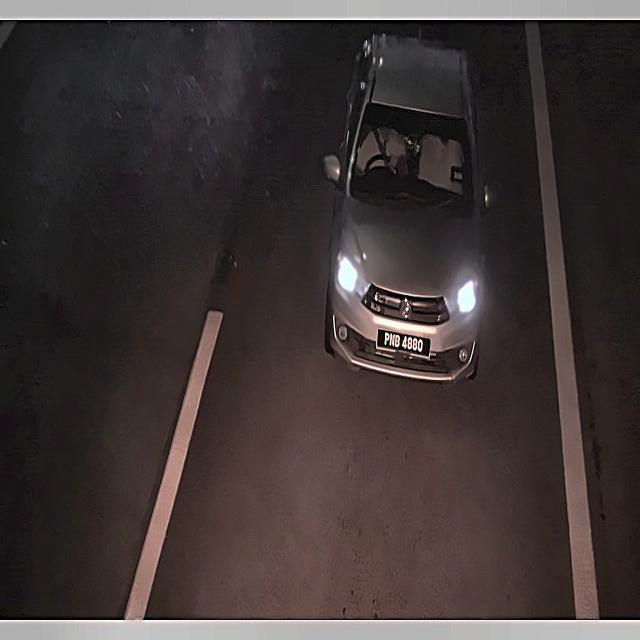car: (375, 324, 432, 363)
